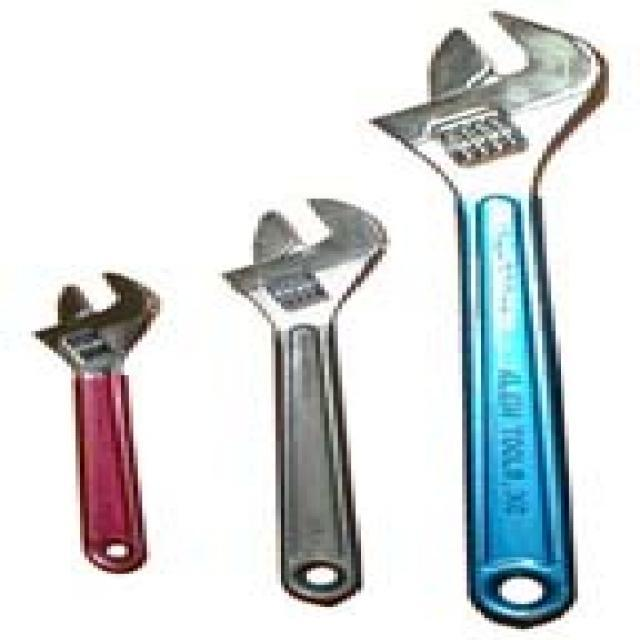wrench: (359, 5, 613, 640), (211, 188, 402, 614), (27, 264, 175, 578)
